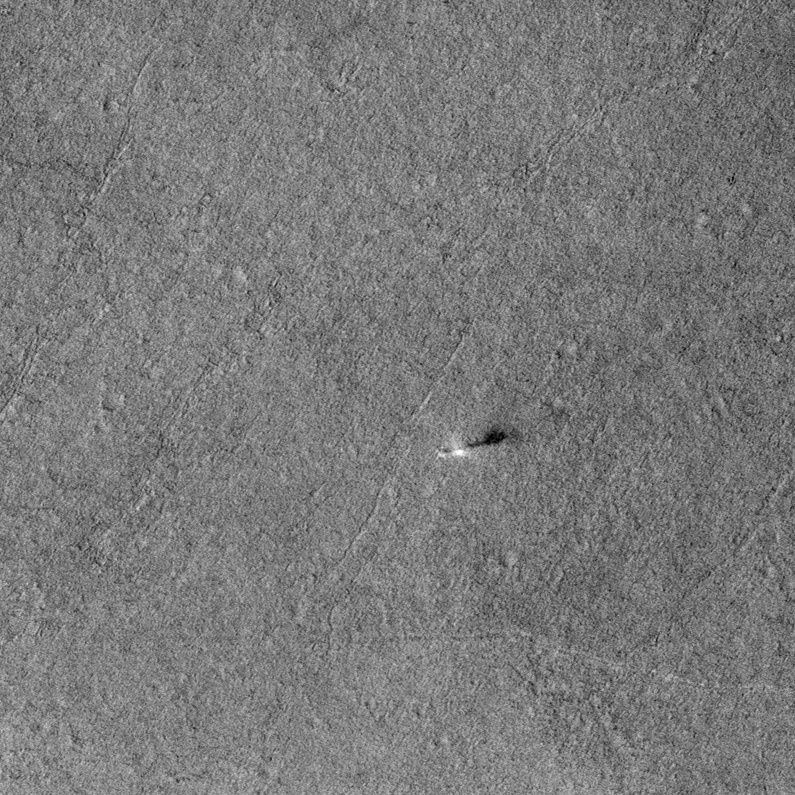dust_devil: (435, 424, 509, 460)
